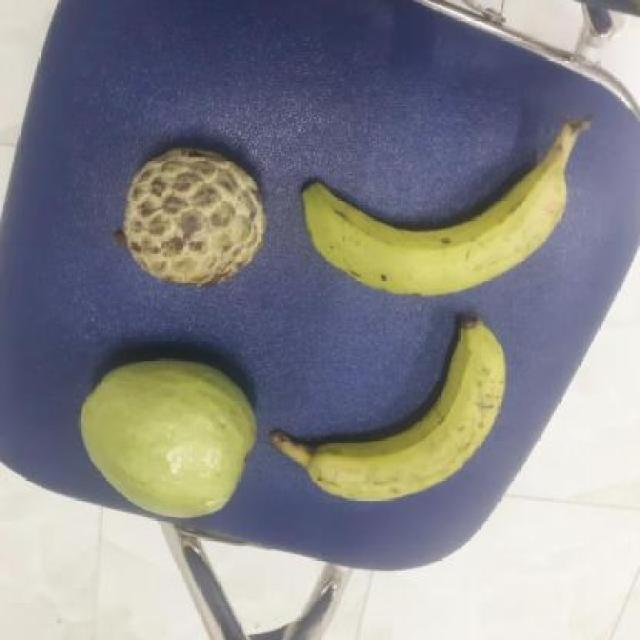banana: (260, 318, 509, 501), (289, 138, 566, 298)
guava: (77, 353, 254, 524)
sugar apple: (110, 147, 265, 287)
